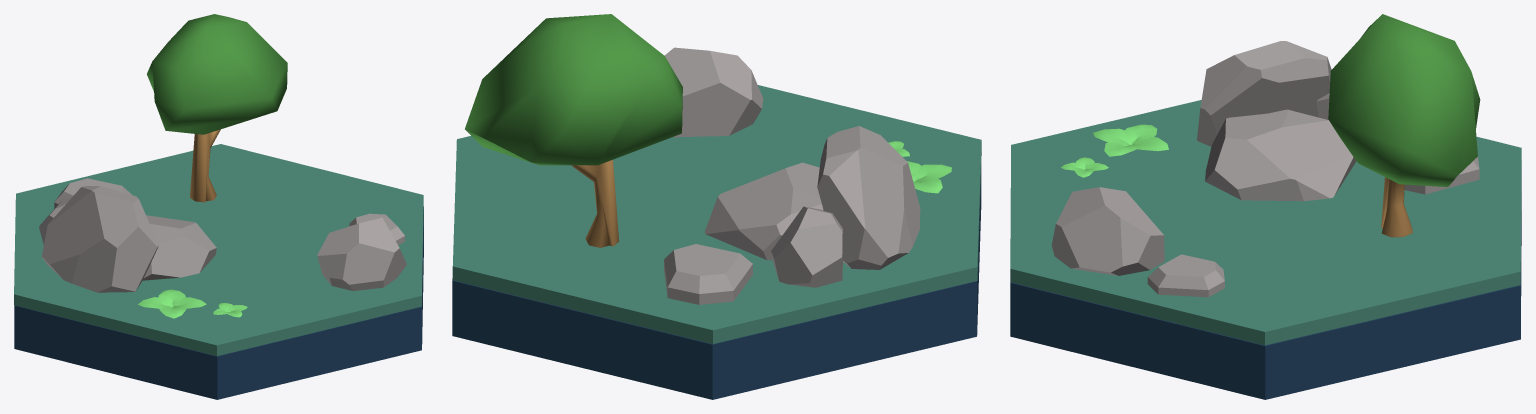
File: Macro - Land Rock.fbx
The picture shows the model from 3 angles, left to right: view 1: azimuth 30°, elevation 25°; view 2: azimuth 150°, elevation 25°; view 3: azimuth 270°, elevation 25°; orthographic projection. The views are drawn at different scales.
Visible parts, largest first — view 1: Cylinder.016, Cylinder.015, tree1 v:88 f:56, Rock Type2 02 mesh.003, Rock Type2 04 mesh.005, Plane.011, Rock Type4 04 mesh.003, Rock Type4 04 mesh.002; view 2: Cylinder.016, Cylinder.015, tree1 v:88 f:56, Rock Type2 02 mesh.003, Rock Type2 04 mesh.005, Rock Type4 04 mesh.003, Plane.011; view 3: Cylinder.016, Cylinder.015, tree1 v:88 f:56, Rock Type2 02 mesh.003, Rock Type2 04 mesh.005, Rock Type4 04 mesh.002, Plane.011, Rock Type4 04 mesh.003, Plane.001.
Boxes of the visible parts, <box> form: Cylinder.016: <box>14,144,423,355</box>; Cylinder.015: <box>14,206,423,399</box>; tree1 v:88 f:56: <box>147,14,287,202</box>; Rock Type2 02 mesh.003: <box>39,186,216,292</box>; Rock Type2 04 mesh.005: <box>317,218,406,290</box>; Plane.011: <box>138,289,206,318</box>; Rock Type4 04 mesh.003: <box>54,178,131,208</box>; Rock Type4 04 mesh.002: <box>349,213,404,245</box>; Cylinder.016: <box>452,85,981,343</box>; Cylinder.015: <box>452,167,981,399</box>; tree1 v:88 f:56: <box>465,14,682,247</box>; Rock Type2 02 mesh.003: <box>704,126,920,287</box>; Rock Type2 04 mesh.005: <box>664,47,763,137</box>; Rock Type4 04 mesh.003: <box>664,244,752,304</box>; Plane.011: <box>907,161,951,193</box>; Cylinder.016: <box>1010,100,1521,345</box>; Cylinder.015: <box>1010,174,1521,399</box>; tree1 v:88 f:56: <box>1328,14,1480,237</box>; Rock Type2 02 mesh.003: <box>1197,41,1355,201</box>; Rock Type2 04 mesh.005: <box>1051,187,1164,275</box>; Rock Type4 04 mesh.002: <box>1147,254,1224,297</box>; Plane.011: <box>1093,124,1168,156</box>; Rock Type4 04 mesh.003: <box>1404,157,1479,194</box>; Plane.001: <box>1061,157,1108,177</box>.
Size of the model in its own units: 198 by 106 by 172.
